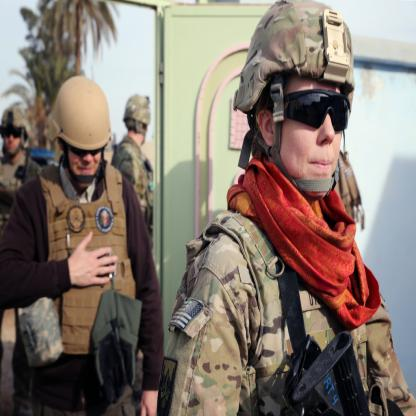Helmet: (236, 10, 358, 192), (46, 76, 111, 184), (0, 106, 33, 162), (120, 90, 152, 136)
